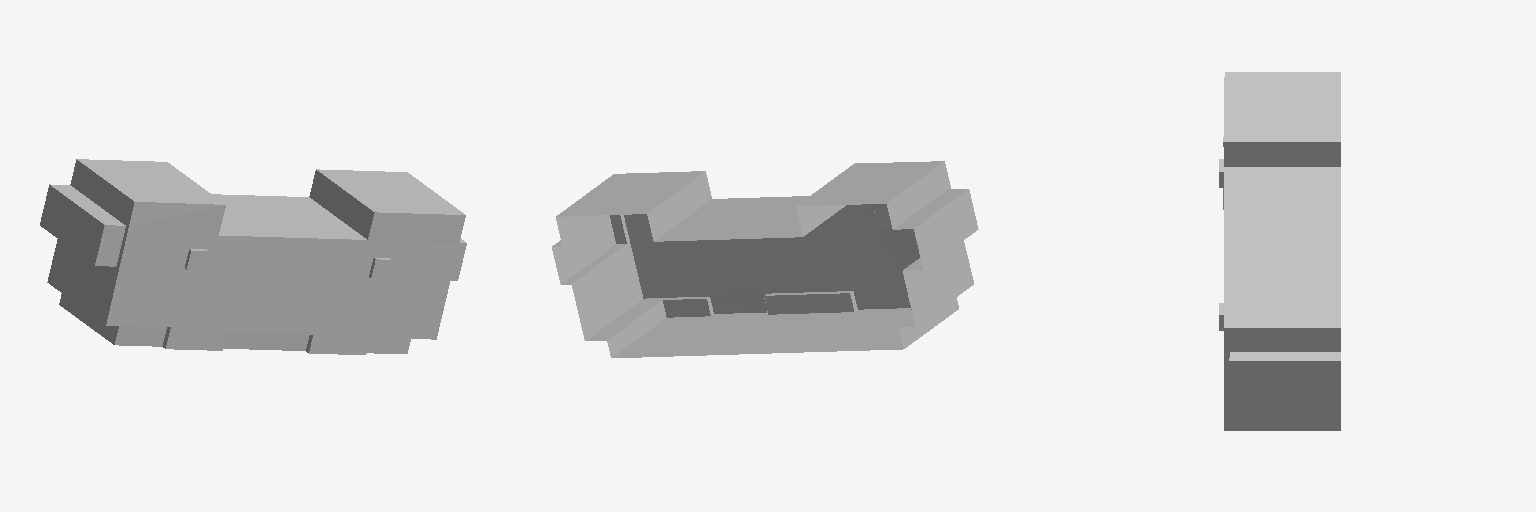
Rendered from talo_Build0000013.obj.
3 views of the same model, side by side, from view 1: azimuth 30°, elevation 25°; view 2: azimuth 150°, elevation 25°; view 3: azimuth 270°, elevation 25° (orthographic).
Bounding box in the file's own units: 52.01 × 29.66 × 14.78.